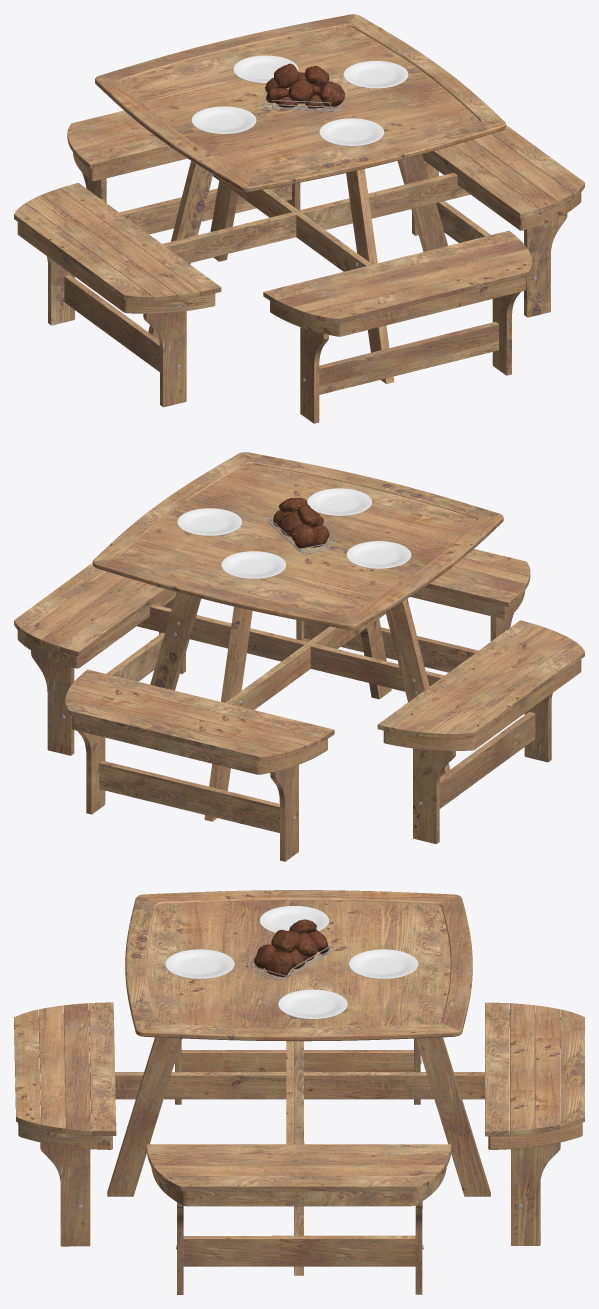
File: A23DMOD_GLTF.gltf
The picture shows the model from 3 angles, top to bottom: view 1: azimuth 30°, elevation 25°; view 2: azimuth 150°, elevation 25°; view 3: azimuth 270°, elevation 25°; orthographic projection. The views are drawn at different scales.
Parts seen in each view (by area): view 1: A23DOBJ_001, A23DOBJ_010, A23DOBJ_009, A23DOBJ_008, A23DOBJ_007, A23DOBJ_002, A23DOBJ_003, A23DOBJ_006, A23DOBJ_004, A23DOBJ_005; view 2: A23DOBJ_001, A23DOBJ_007, A23DOBJ_009, A23DOBJ_008, A23DOBJ_010, A23DOBJ_002, A23DOBJ_004, A23DOBJ_005, A23DOBJ_006, A23DOBJ_003; view 3: A23DOBJ_001, A23DOBJ_008, A23DOBJ_010, A23DOBJ_007, A23DOBJ_009, A23DOBJ_002, A23DOBJ_005, A23DOBJ_004, A23DOBJ_003, A23DOBJ_006.
Part boxes in pixels (left/top/right/bottom): A23DOBJ_001: left=95, top=14, right=505, bottom=383; A23DOBJ_010: left=263, top=230, right=532, bottom=423; A23DOBJ_009: left=14, top=183, right=221, bottom=407; A23DOBJ_008: left=412, top=125, right=584, bottom=317; A23DOBJ_007: left=67, top=110, right=300, bottom=234; A23DOBJ_002: left=262, top=63, right=345, bottom=111; A23DOBJ_003: left=319, top=118, right=384, bottom=145; A23DOBJ_006: left=191, top=106, right=256, bottom=133; A23DOBJ_004: left=343, top=61, right=408, bottom=88; A23DOBJ_005: left=233, top=55, right=298, bottom=83; A23DOBJ_001: left=92, top=452, right=503, bottom=821; A23DOBJ_007: left=65, top=669, right=334, bottom=861; A23DOBJ_009: left=377, top=620, right=584, bottom=843; A23DOBJ_008: left=14, top=563, right=185, bottom=755; A23DOBJ_010: left=296, top=549, right=530, bottom=672; A23DOBJ_002: left=266, top=497, right=335, bottom=554; A23DOBJ_004: left=177, top=508, right=242, bottom=535; A23DOBJ_005: left=221, top=551, right=285, bottom=578; A23DOBJ_006: left=346, top=541, right=411, bottom=568; A23DOBJ_003: left=307, top=488, right=371, bottom=515; A23DOBJ_001: left=90, top=890, right=490, bottom=1275; A23DOBJ_008: left=146, top=1144, right=451, bottom=1294; A23DOBJ_010: left=14, top=1002, right=116, bottom=1246; A23DOBJ_007: left=485, top=1002, right=584, bottom=1245; A23DOBJ_009: left=174, top=1038, right=421, bottom=1104; A23DOBJ_002: left=251, top=919, right=334, bottom=981; A23DOBJ_005: left=349, top=949, right=418, bottom=978; A23DOBJ_004: left=278, top=989, right=347, bottom=1018; A23DOBJ_003: left=165, top=949, right=234, bottom=978; A23DOBJ_006: left=259, top=906, right=328, bottom=932.
Size of the model in its own units: 1.84 by 0.9677 by 1.85.
4 materials, 4 textured.
